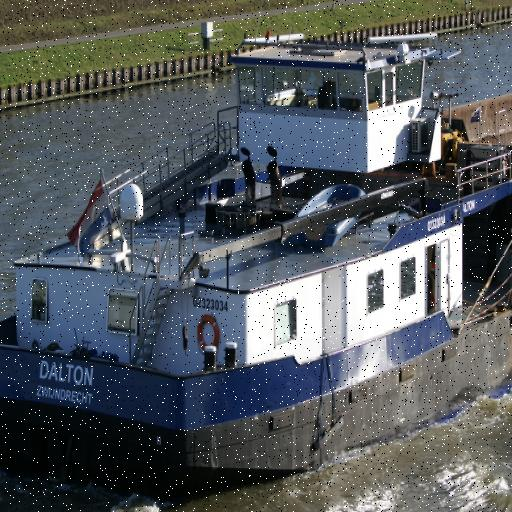tugboat: (1, 33, 512, 501)
